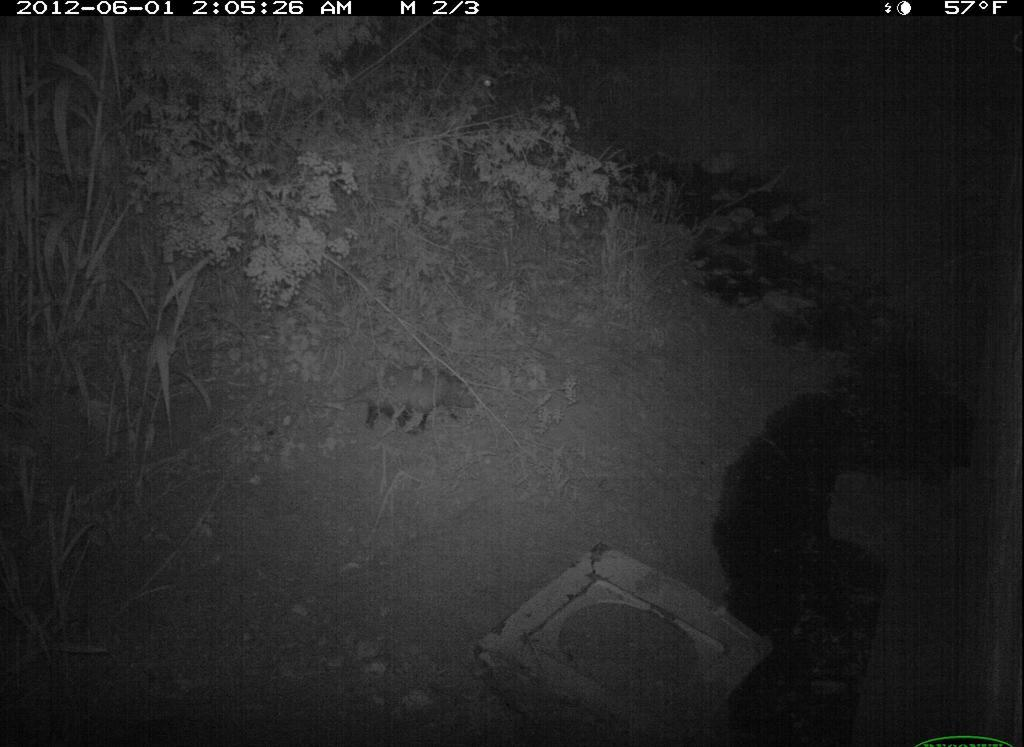opossum: (303, 342, 511, 463)
